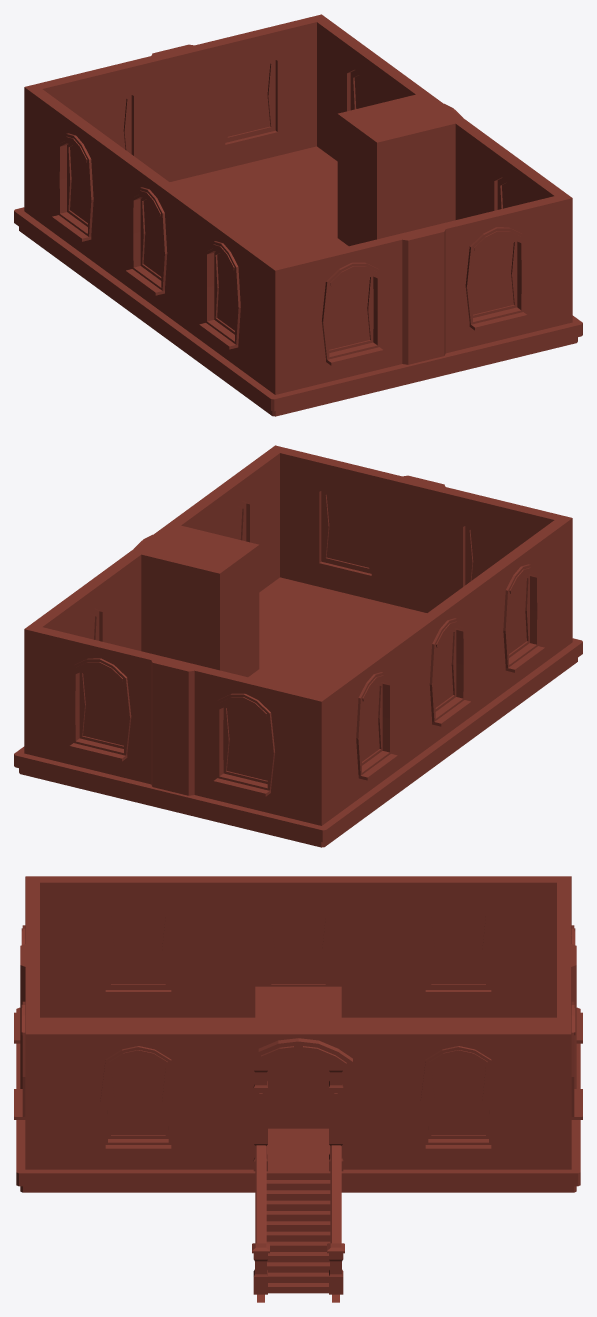
The model's file is House01_Floor1.fbx.
3 renders of one model, top to bottom at view 1: azimuth 30°, elevation 25°; view 2: azimuth 150°, elevation 25°; view 3: azimuth 270°, elevation 25°, orthographic. The views are drawn at different scales.
Visible parts, largest first — view 1: Plane.029; view 2: Plane.029; view 3: Plane.029.
Part boxes in pixels (x1,y1,x2,y2): Plane.029: (14,14,582,416); Plane.029: (14,445,582,847); Plane.029: (14,876,582,1302).
Bounding box in the file's own units: 867 × 435 × 990.
